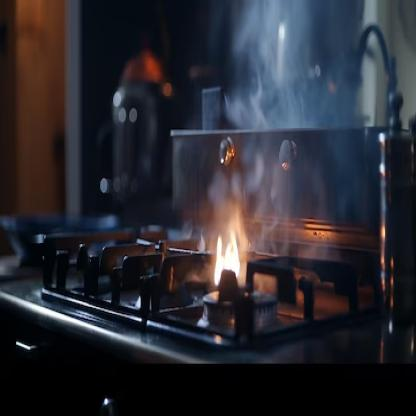fire: (214, 223, 243, 296)
smoke: (211, 2, 392, 282)
